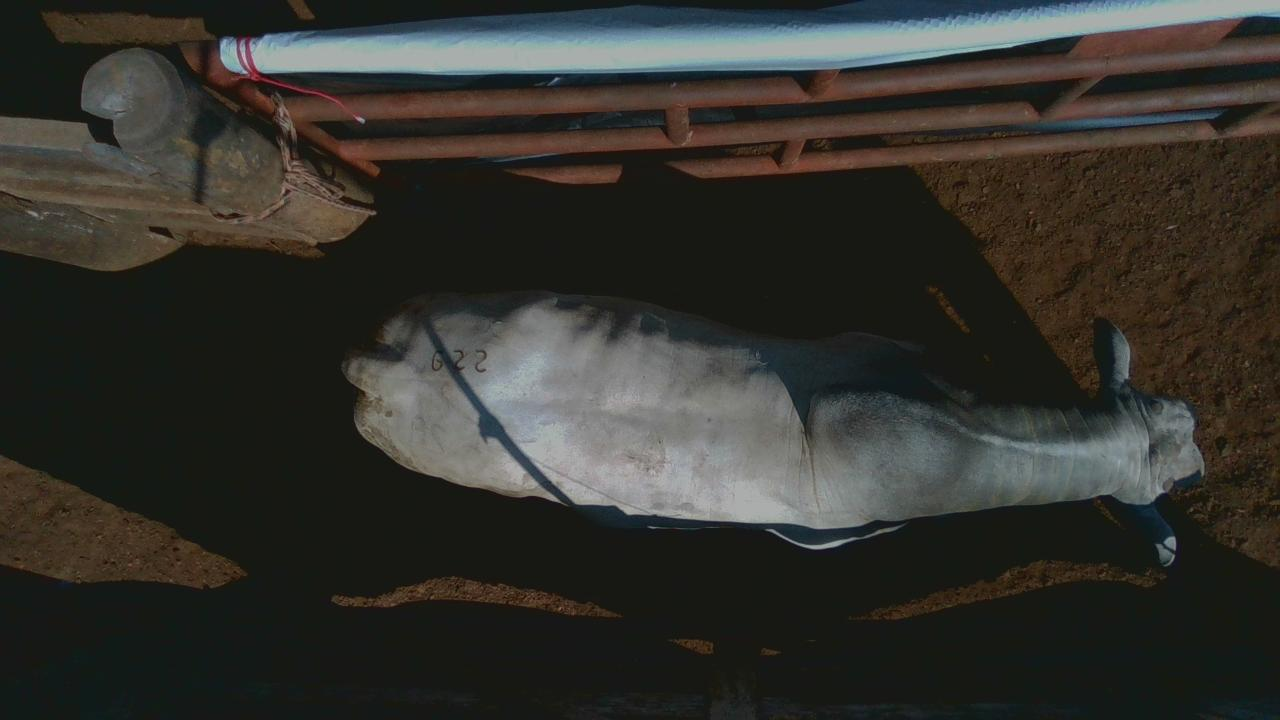cattle: (340, 286, 1205, 569)
